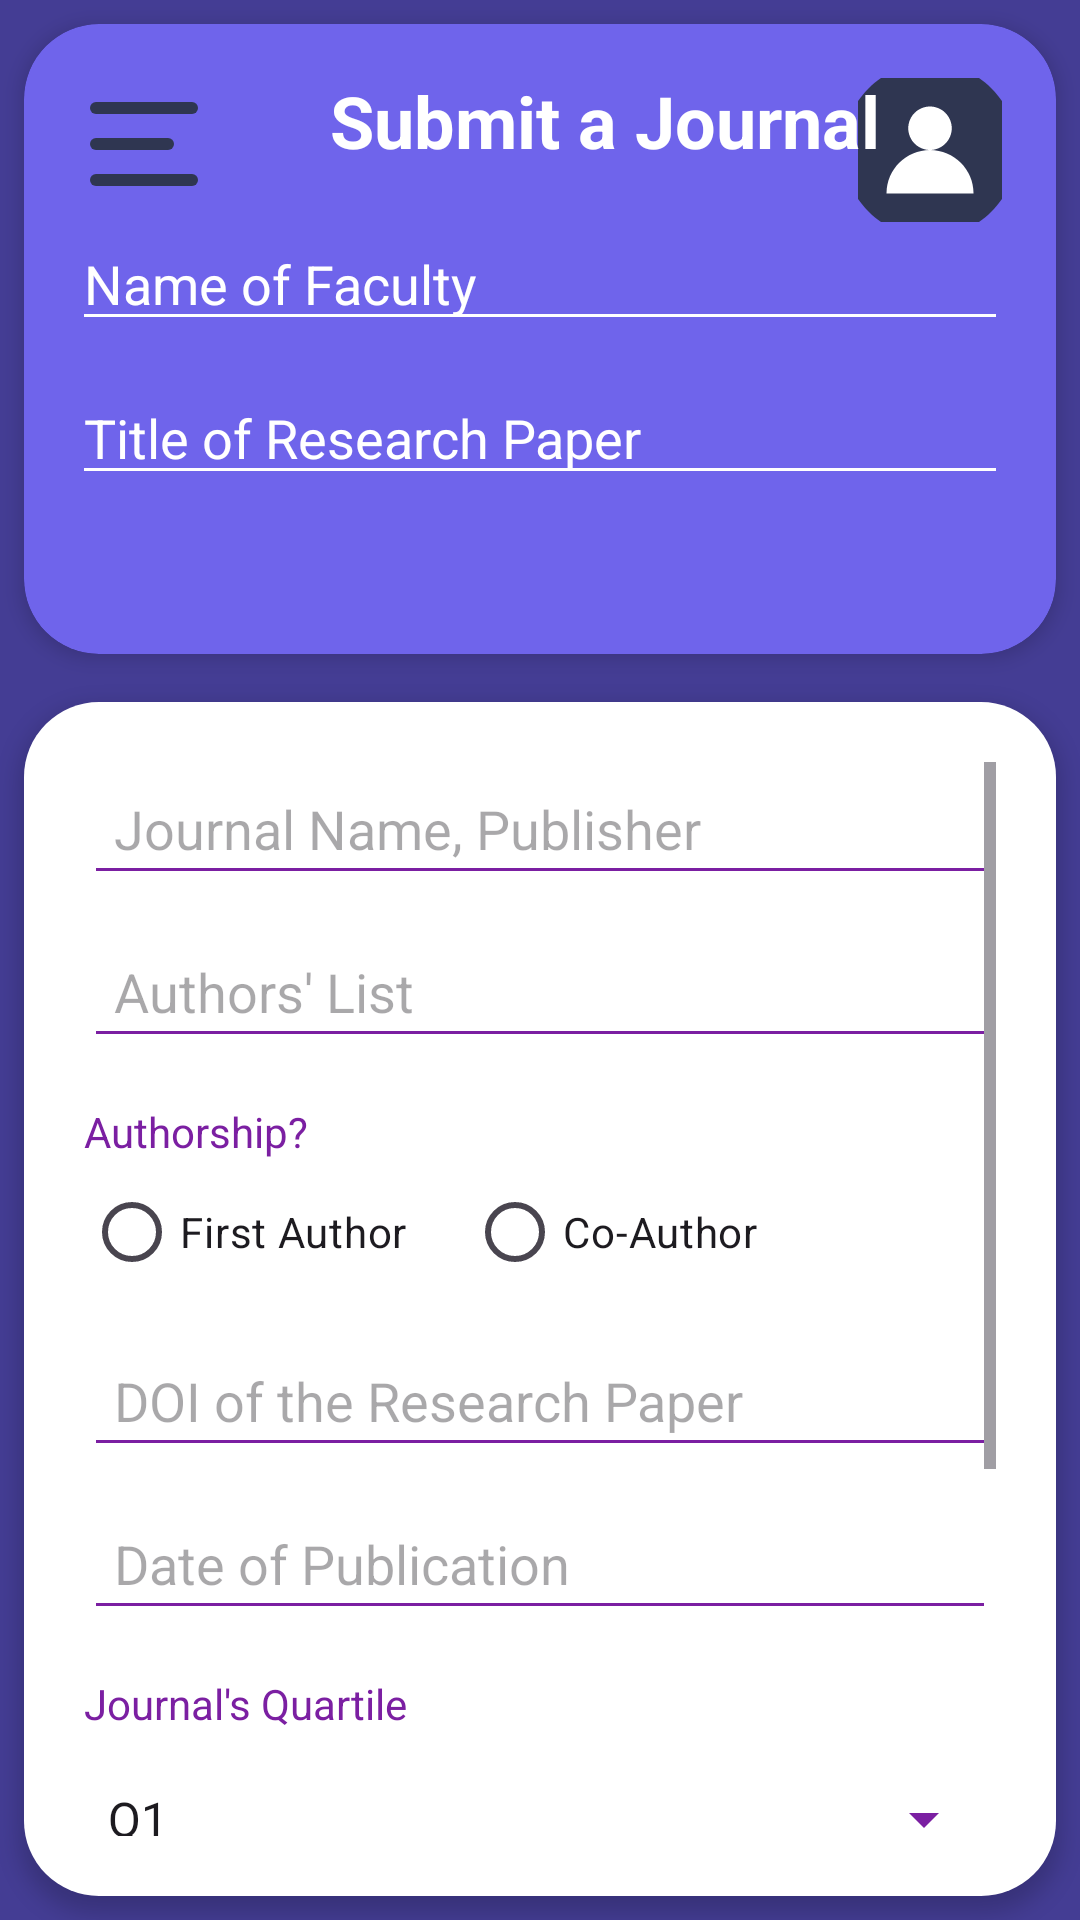

Screen size 1080px x 1920px. Icon name, then its center in pixels as (x,y):
Hamburger Menu: (144,144)
User Profile: (930,150)
